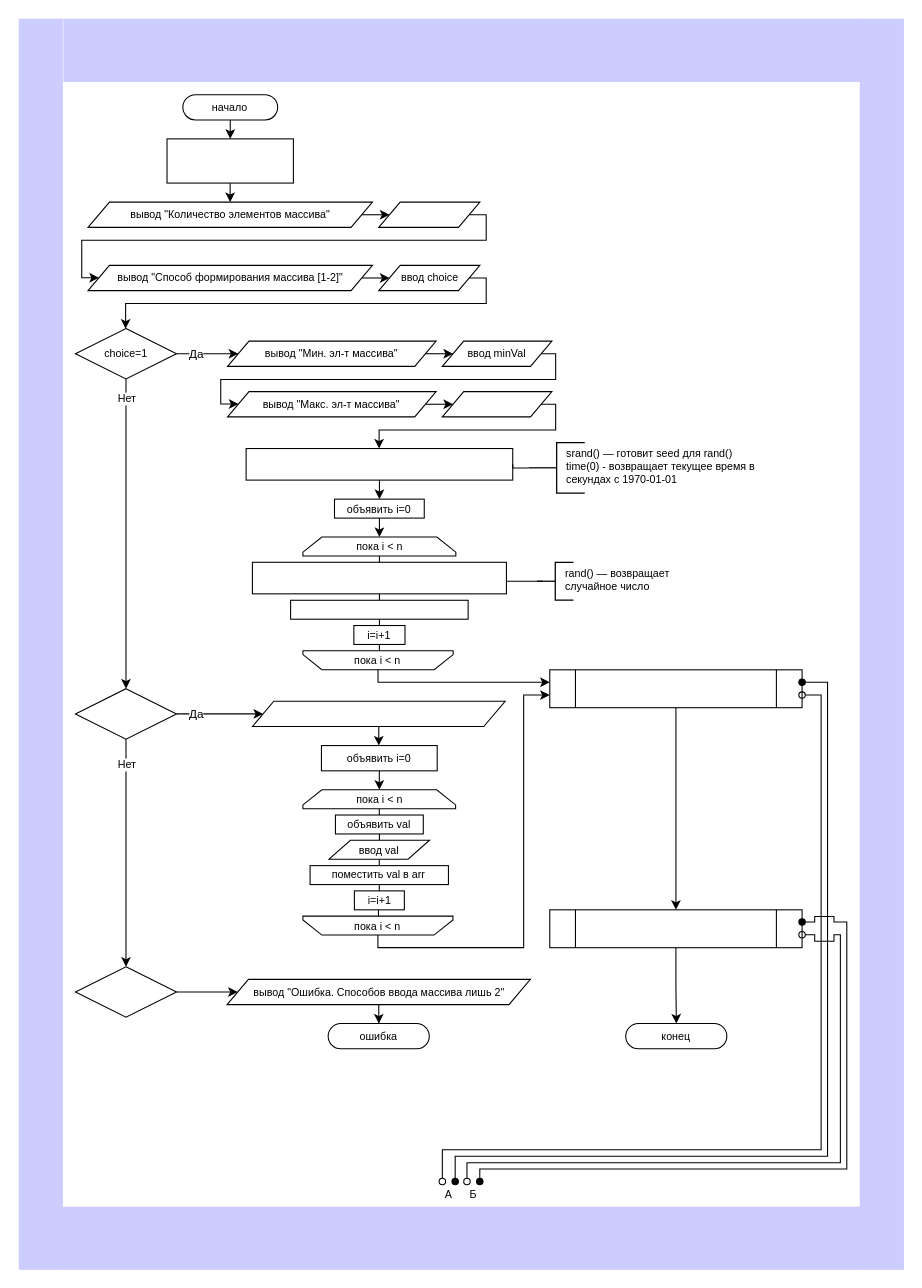
Some shapes in this 922 by 1288 pixel diagram are drawn without their labels. The shapes that lost their labels are listed below. From the top down, each one's box as (x1, y1, x2, y2) in pixels, then its label:
(166, 138, 293, 183): объявить arr, n=0 , minVal=0, choice=0 , maxVal=0
(378, 201, 480, 227): ввод n
(441, 391, 552, 417): ввод maxVal
(245, 447, 513, 480): выполнить srand(static_cast<unsigned int>(time(0)));
(251, 561, 506, 594): объявить randomValue = minVal + rand() % (maxVal - minVal + 1)
(290, 599, 468, 619): поместить randomValue в arr
(549, 669, 802, 708): функция calcProductEvenIndexes (вход: массив arr )
(74, 688, 177, 739): choice=2
(251, 700, 505, 727): вывод "Эл-ты массива через пробел "
(549, 909, 802, 948): функция calcSumBetweenZeros (вход: массив arr )
(74, 966, 177, 1017): default
